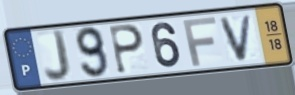6: (150, 21, 183, 71)
9: (73, 24, 112, 81)
F: (181, 15, 219, 68)
J: (42, 28, 73, 84)
P: (107, 23, 145, 76)
V: (218, 12, 255, 63)
